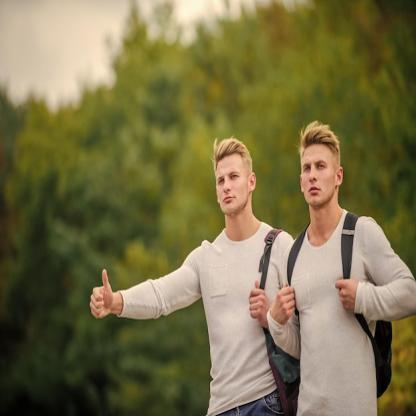thumb_up: (87, 265, 115, 321)
